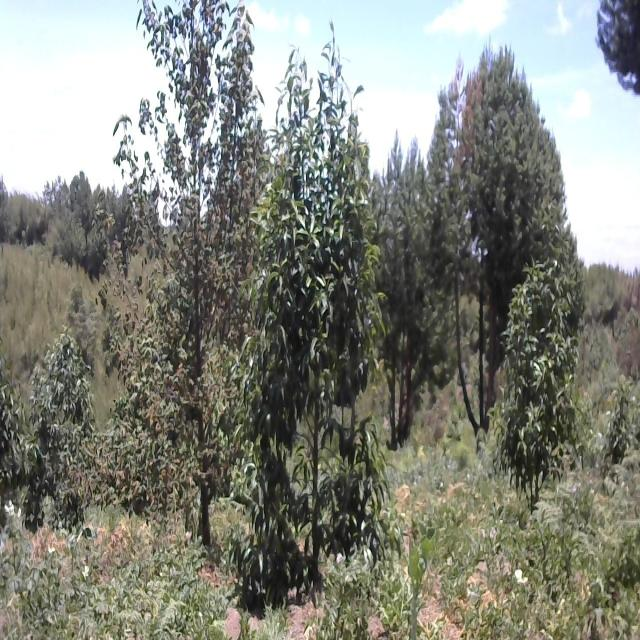Croton machrostychus: (100, 0, 272, 509)
Juniperus procesera: (438, 35, 568, 371), (364, 108, 440, 427)
Olea welwitchii: (234, 39, 394, 586), (494, 245, 587, 503), (24, 328, 97, 527)
